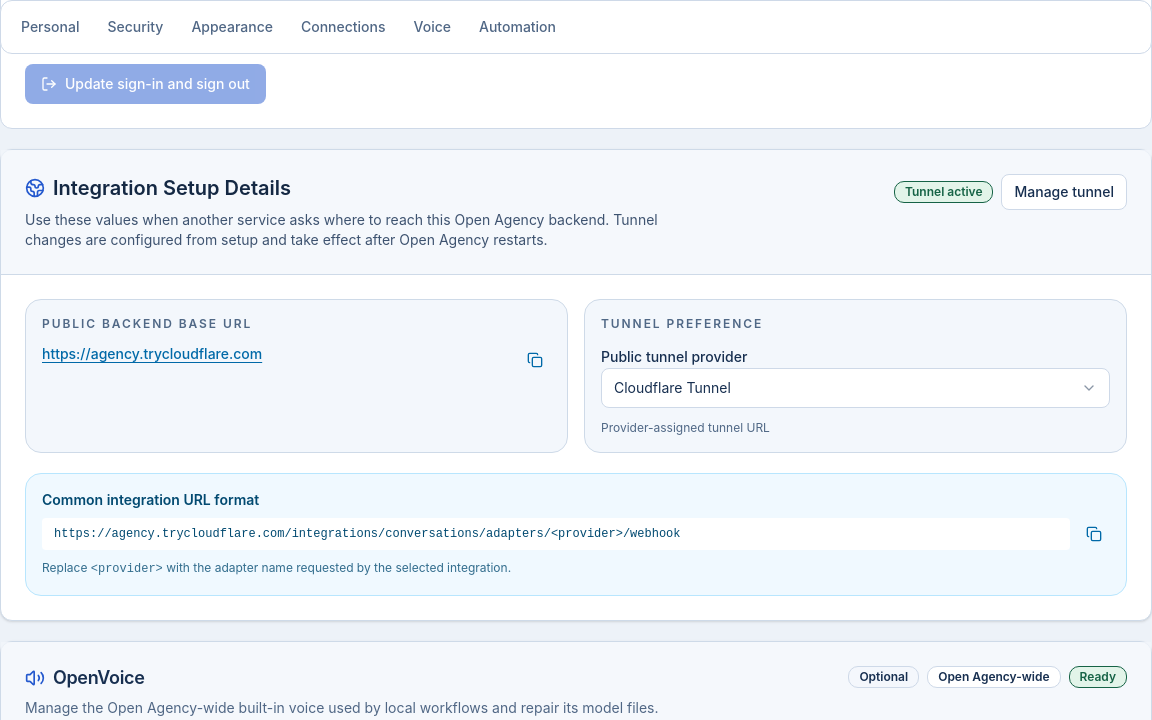
Test case: ProfilePage › copies the public backend base URL from the profile card
The image size is (1152, 720).
(page scrolled)
Click the button named "Copy public backend base URL" at (535, 360), box [519, 344, 551, 376]
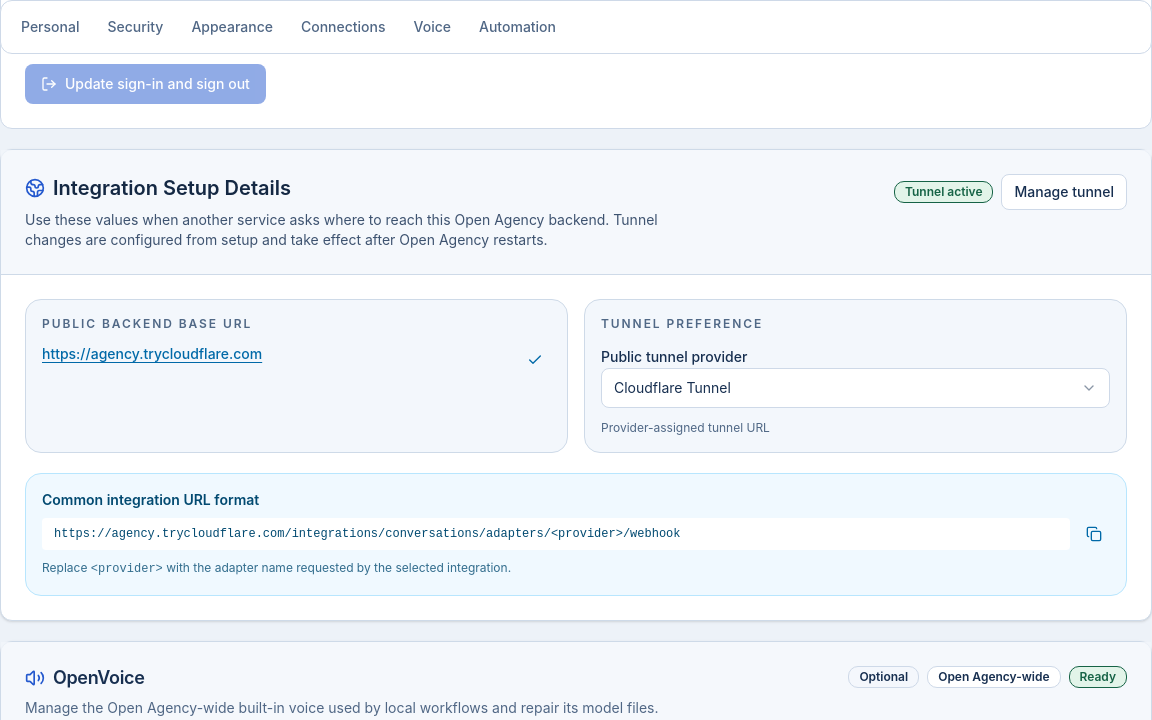
Now the button named "Public backend base URL copied" is shown, box [519, 344, 551, 376]
